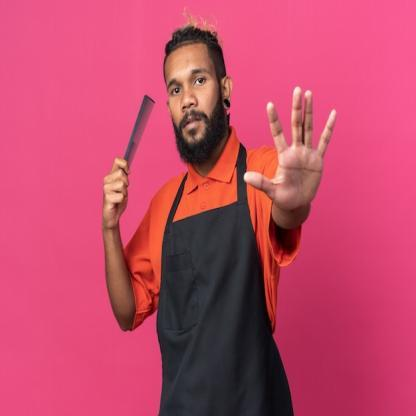stop: (240, 80, 338, 218)
